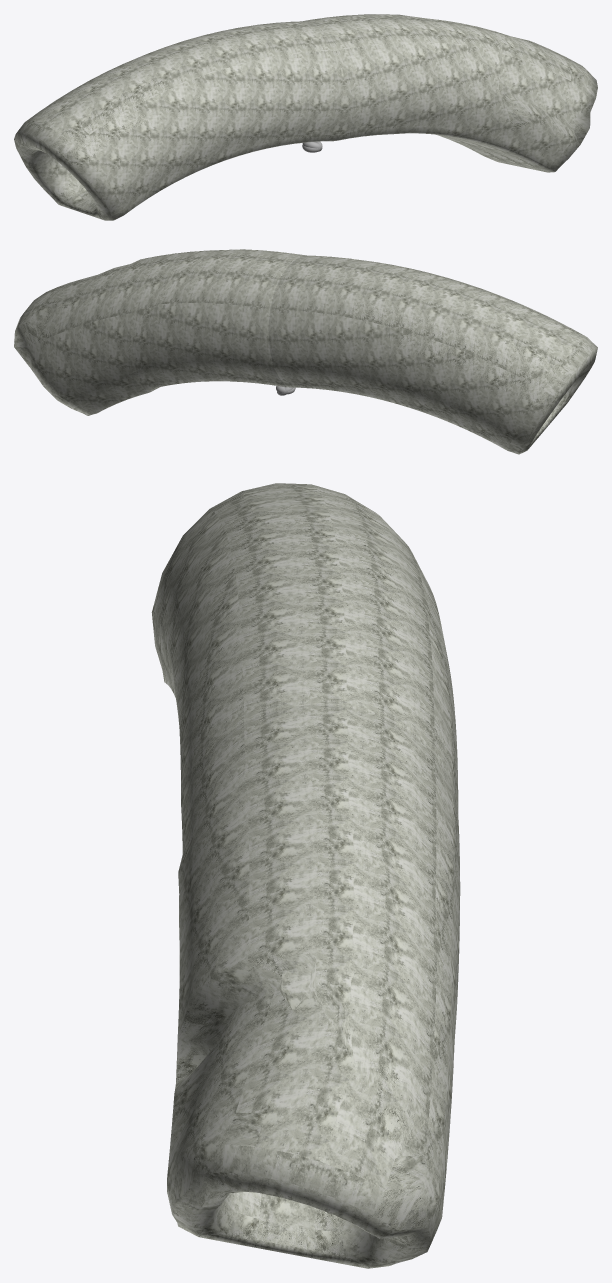
File: sewer.fbx
3 views of the same model, one above another, from view 1: azimuth 30°, elevation 25°; view 2: azimuth 150°, elevation 25°; view 3: azimuth 270°, elevation 25° (orthographic). The views are drawn at different scales.
Visible parts, largest first — view 1: Tunnel; view 2: Tunnel; view 3: Tunnel.
Boxes of the visible parts, bbox=[...] form: Tunnel: bbox=[14, 14, 597, 220]; Tunnel: bbox=[14, 249, 597, 454]; Tunnel: bbox=[151, 483, 460, 1268].
Bounding box in the file's own units: 32.34 × 11.13 × 7.79.
Materials: 2 (1 with a texture image).
